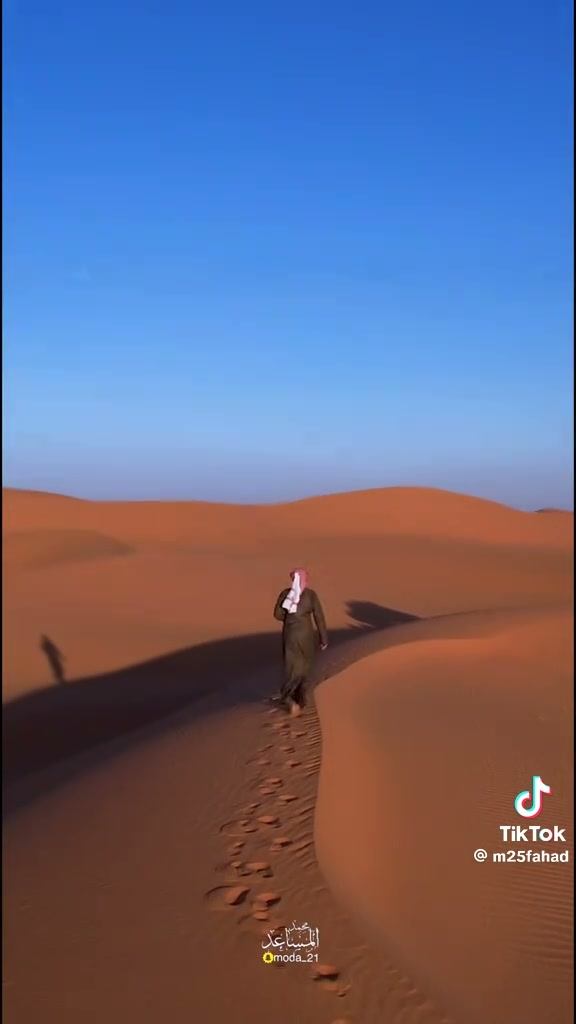human: (274, 568, 327, 715)
human_foot_print: (206, 719, 316, 936)
